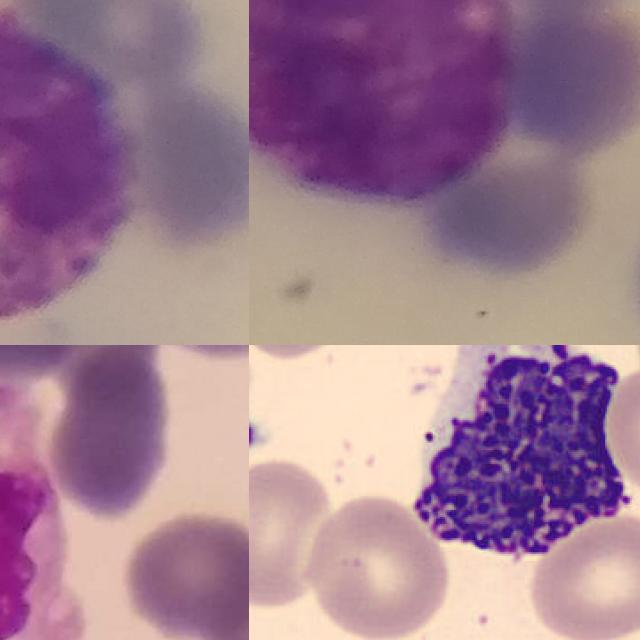Basophil: (397, 345, 640, 582), (249, 0, 518, 200), (0, 5, 142, 320)
Monocyte: (0, 387, 83, 640)
Platelets: (249, 406, 262, 457)
RBC: (299, 489, 453, 640), (523, 511, 640, 640), (249, 453, 338, 610), (605, 370, 640, 501)
